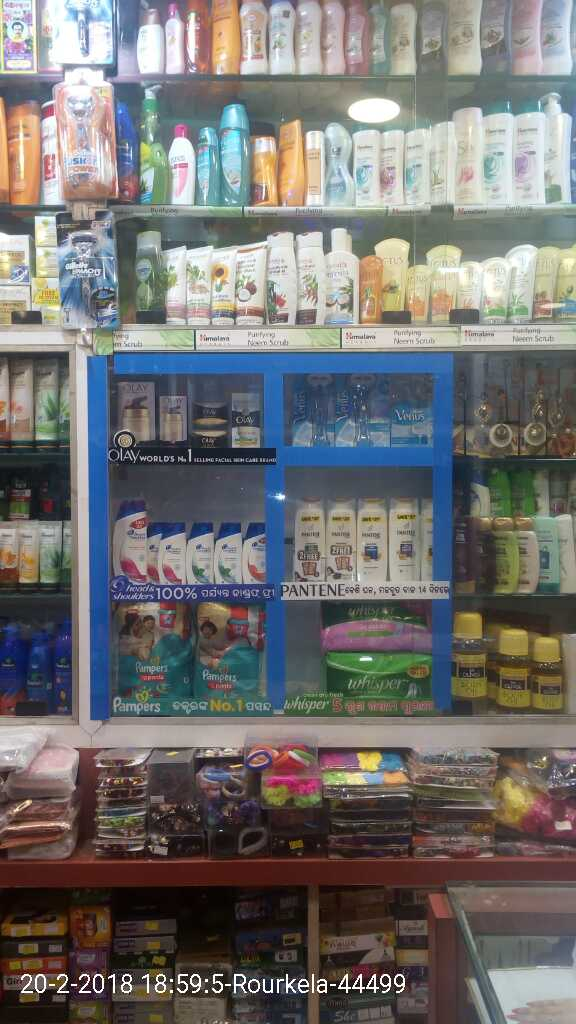gillete: (58, 213, 117, 327), (62, 83, 110, 200), (51, 1, 110, 68)
venus: (291, 372, 341, 448), (341, 372, 391, 445), (392, 403, 434, 445)
